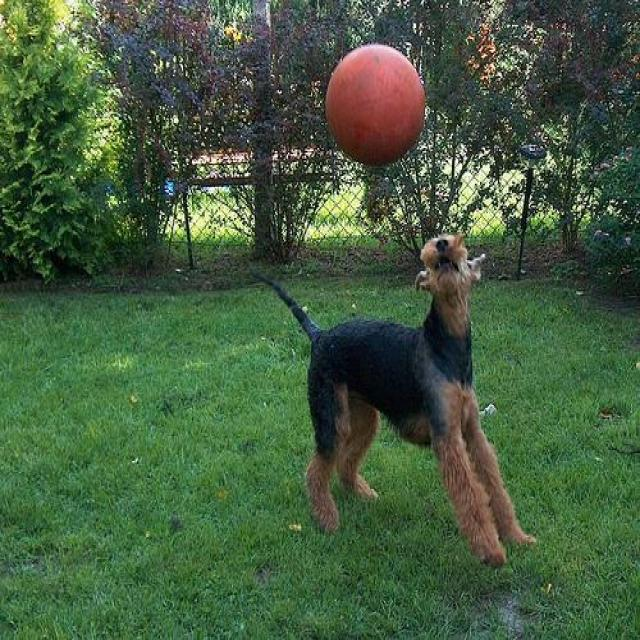airedale: (258, 230, 534, 567)
